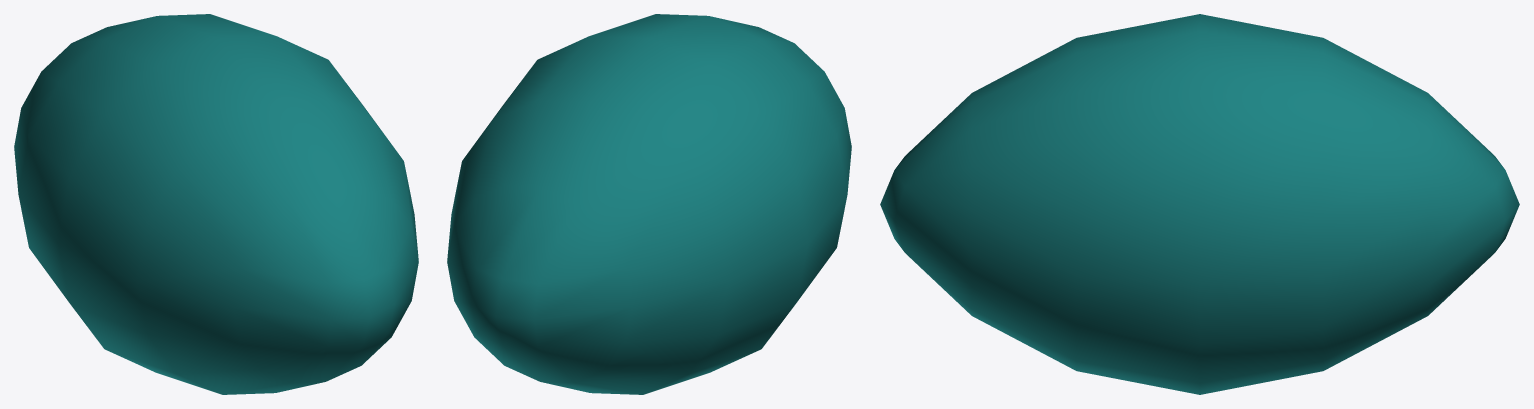
Rendered from rugby_ball_collider.fbx.
3 views of the same model, side by side, from view 1: azimuth 30°, elevation 25°; view 2: azimuth 150°, elevation 25°; view 3: azimuth 270°, elevation 25° (orthographic). The views are drawn at different scales.
Visible parts, largest first — view 1: rugby_ball_collider; view 2: rugby_ball_collider; view 3: rugby_ball_collider.
Boxes of the visible parts, x1=… form: rugby_ball_collider: x1=14, y1=14, x2=418, y2=394; rugby_ball_collider: x1=447, y1=14, x2=851, y2=394; rugby_ball_collider: x1=880, y1=14, x2=1519, y2=394.
Bounding box in the file's own units: 16.67 × 16.67 × 27.97.
